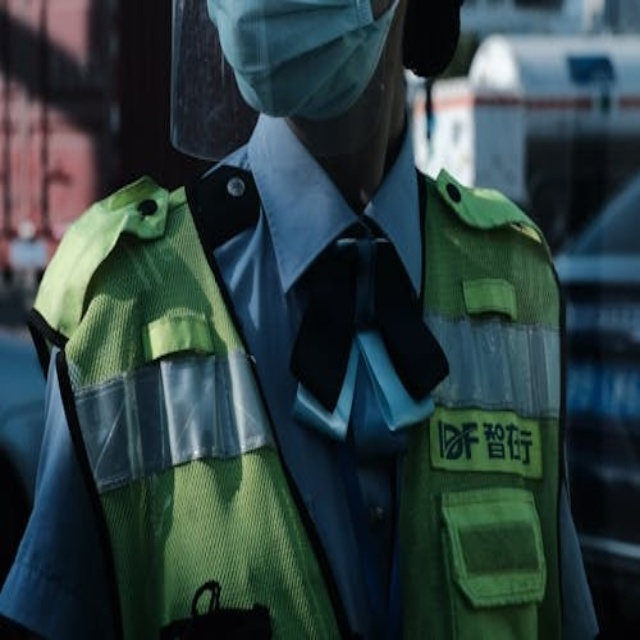Mascara: (205, 0, 403, 123)
